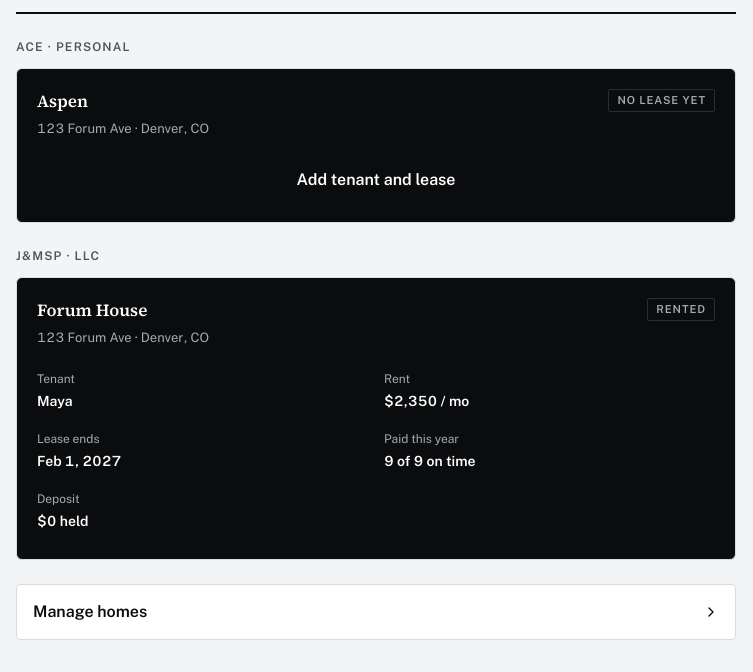
Test: HomesWallet › 5e Manage homes expands the existing content
This screenshot has width=753, height=672.
Click the button "Manage homes".
click(90, 612)  # box [16, 584, 736, 640]
(page scrolled)
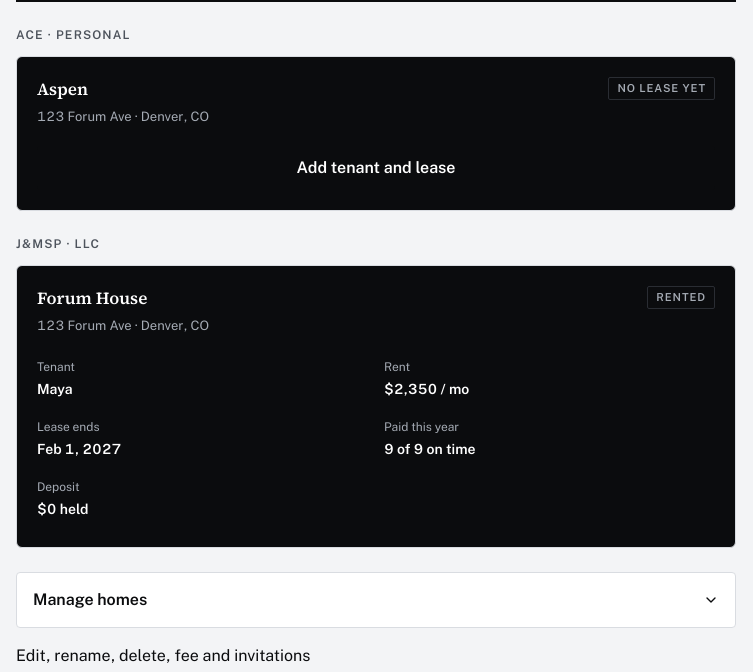
expect the button "Manage homes" is expanded: met, box [16, 572, 736, 628]
expect the text "Edit, rename, delete, fee and invitations" is shown: met, box [16, 646, 310, 665]
